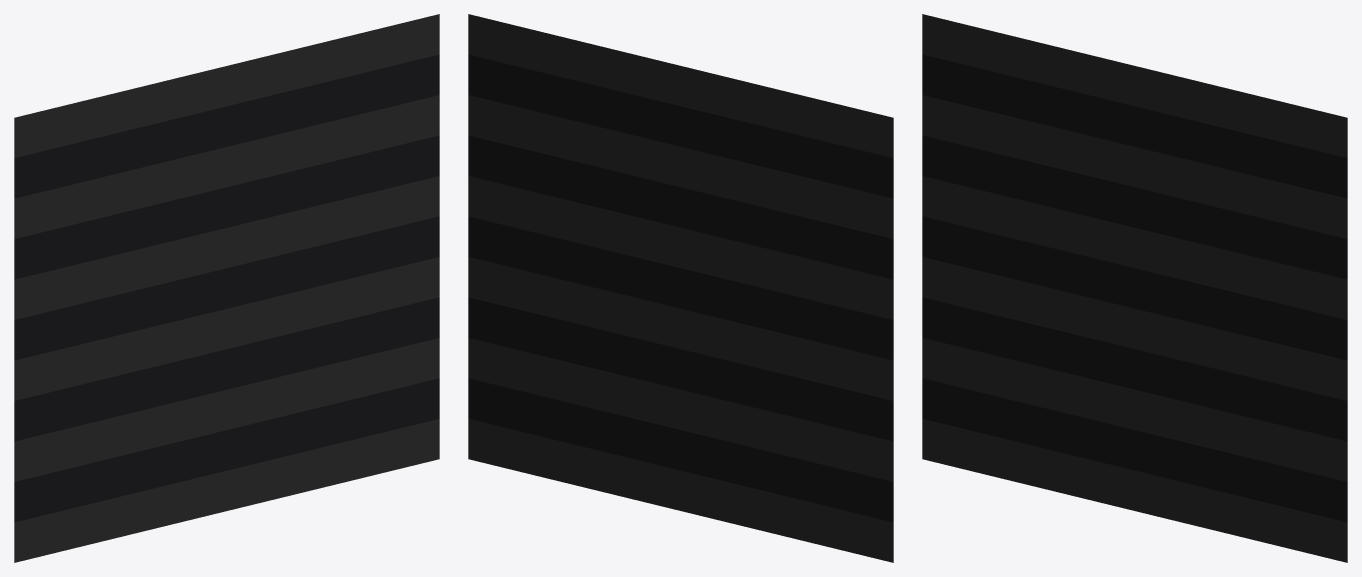
The model's file is scoreboard_bg_dark.glb.
3 renders of one model, left to right at view 1: azimuth 30°, elevation 25°; view 2: azimuth 150°, elevation 25°; view 3: azimuth 330°, elevation 25°, orthographic.
Visible parts, largest first — view 1: bg_dark; view 2: bg_dark; view 3: bg_dark.
Part boxes in pixels (<box>): bg_dark: <box>14,14,439,562</box>; bg_dark: <box>468,14,893,562</box>; bg_dark: <box>922,14,1347,562</box>.
Bounding box in the file's own units: 1 × 1 × 2.11e-07.
Materials: 1 (1 with a texture image).
